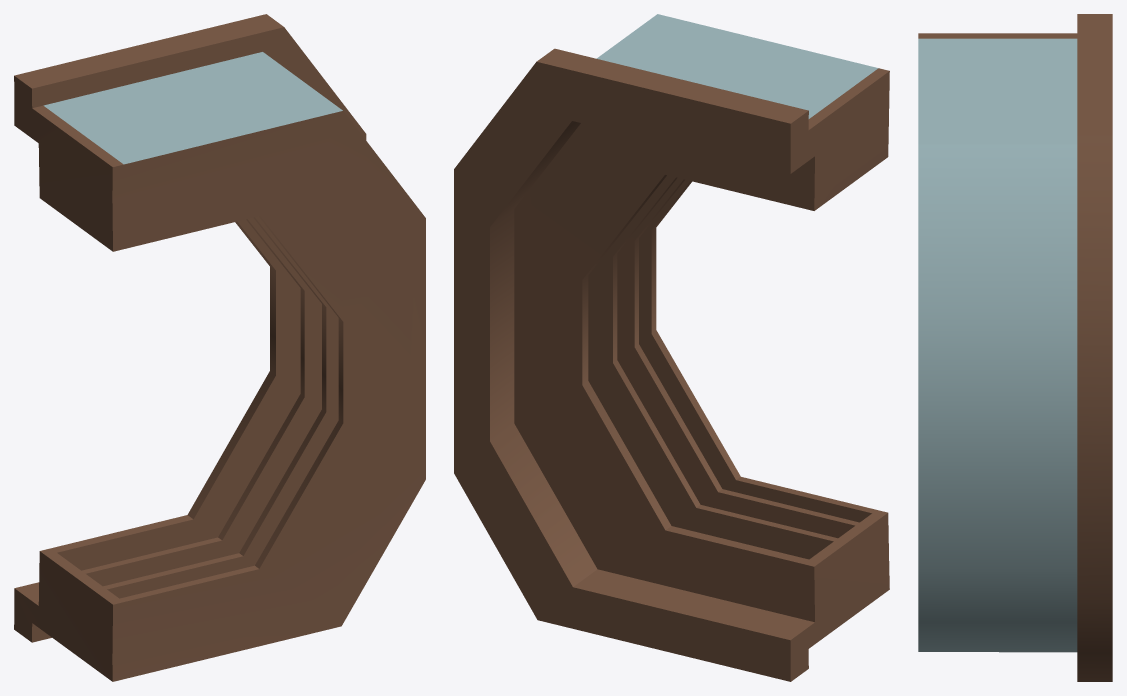
Rendered from m_Receptiondesk.fbx.
3 views of the same model, side by side, from view 1: azimuth 30°, elevation 25°; view 2: azimuth 150°, elevation 25°; view 3: azimuth 270°, elevation 25° (orthographic). The views are drawn at different scales.
Visible parts, largest first — view 1: m_Receptiondesk; view 2: m_Receptiondesk; view 3: m_Receptiondesk.
Boxes of the visible parts, x1=… form: m_Receptiondesk: x1=14, y1=14, x2=425, y2=681; m_Receptiondesk: x1=454, y1=14, x2=889, y2=681; m_Receptiondesk: x1=918, y1=14, x2=1112, y2=681.
Bounding box in the file's own units: 207 × 328 × 106.
